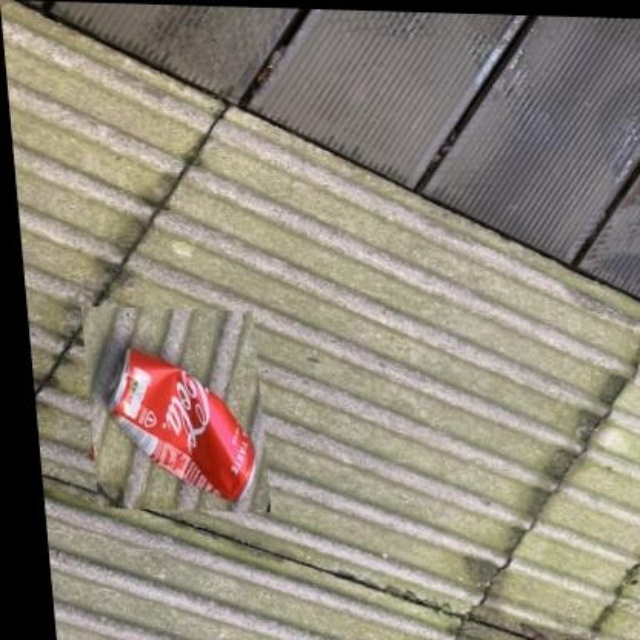trash: (109, 348, 252, 500)
